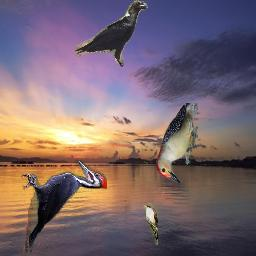Crow: (74, 1, 148, 68)
Cuckoo: (144, 203, 159, 245)
Woodpecker: (21, 160, 107, 254), (156, 103, 198, 183)
